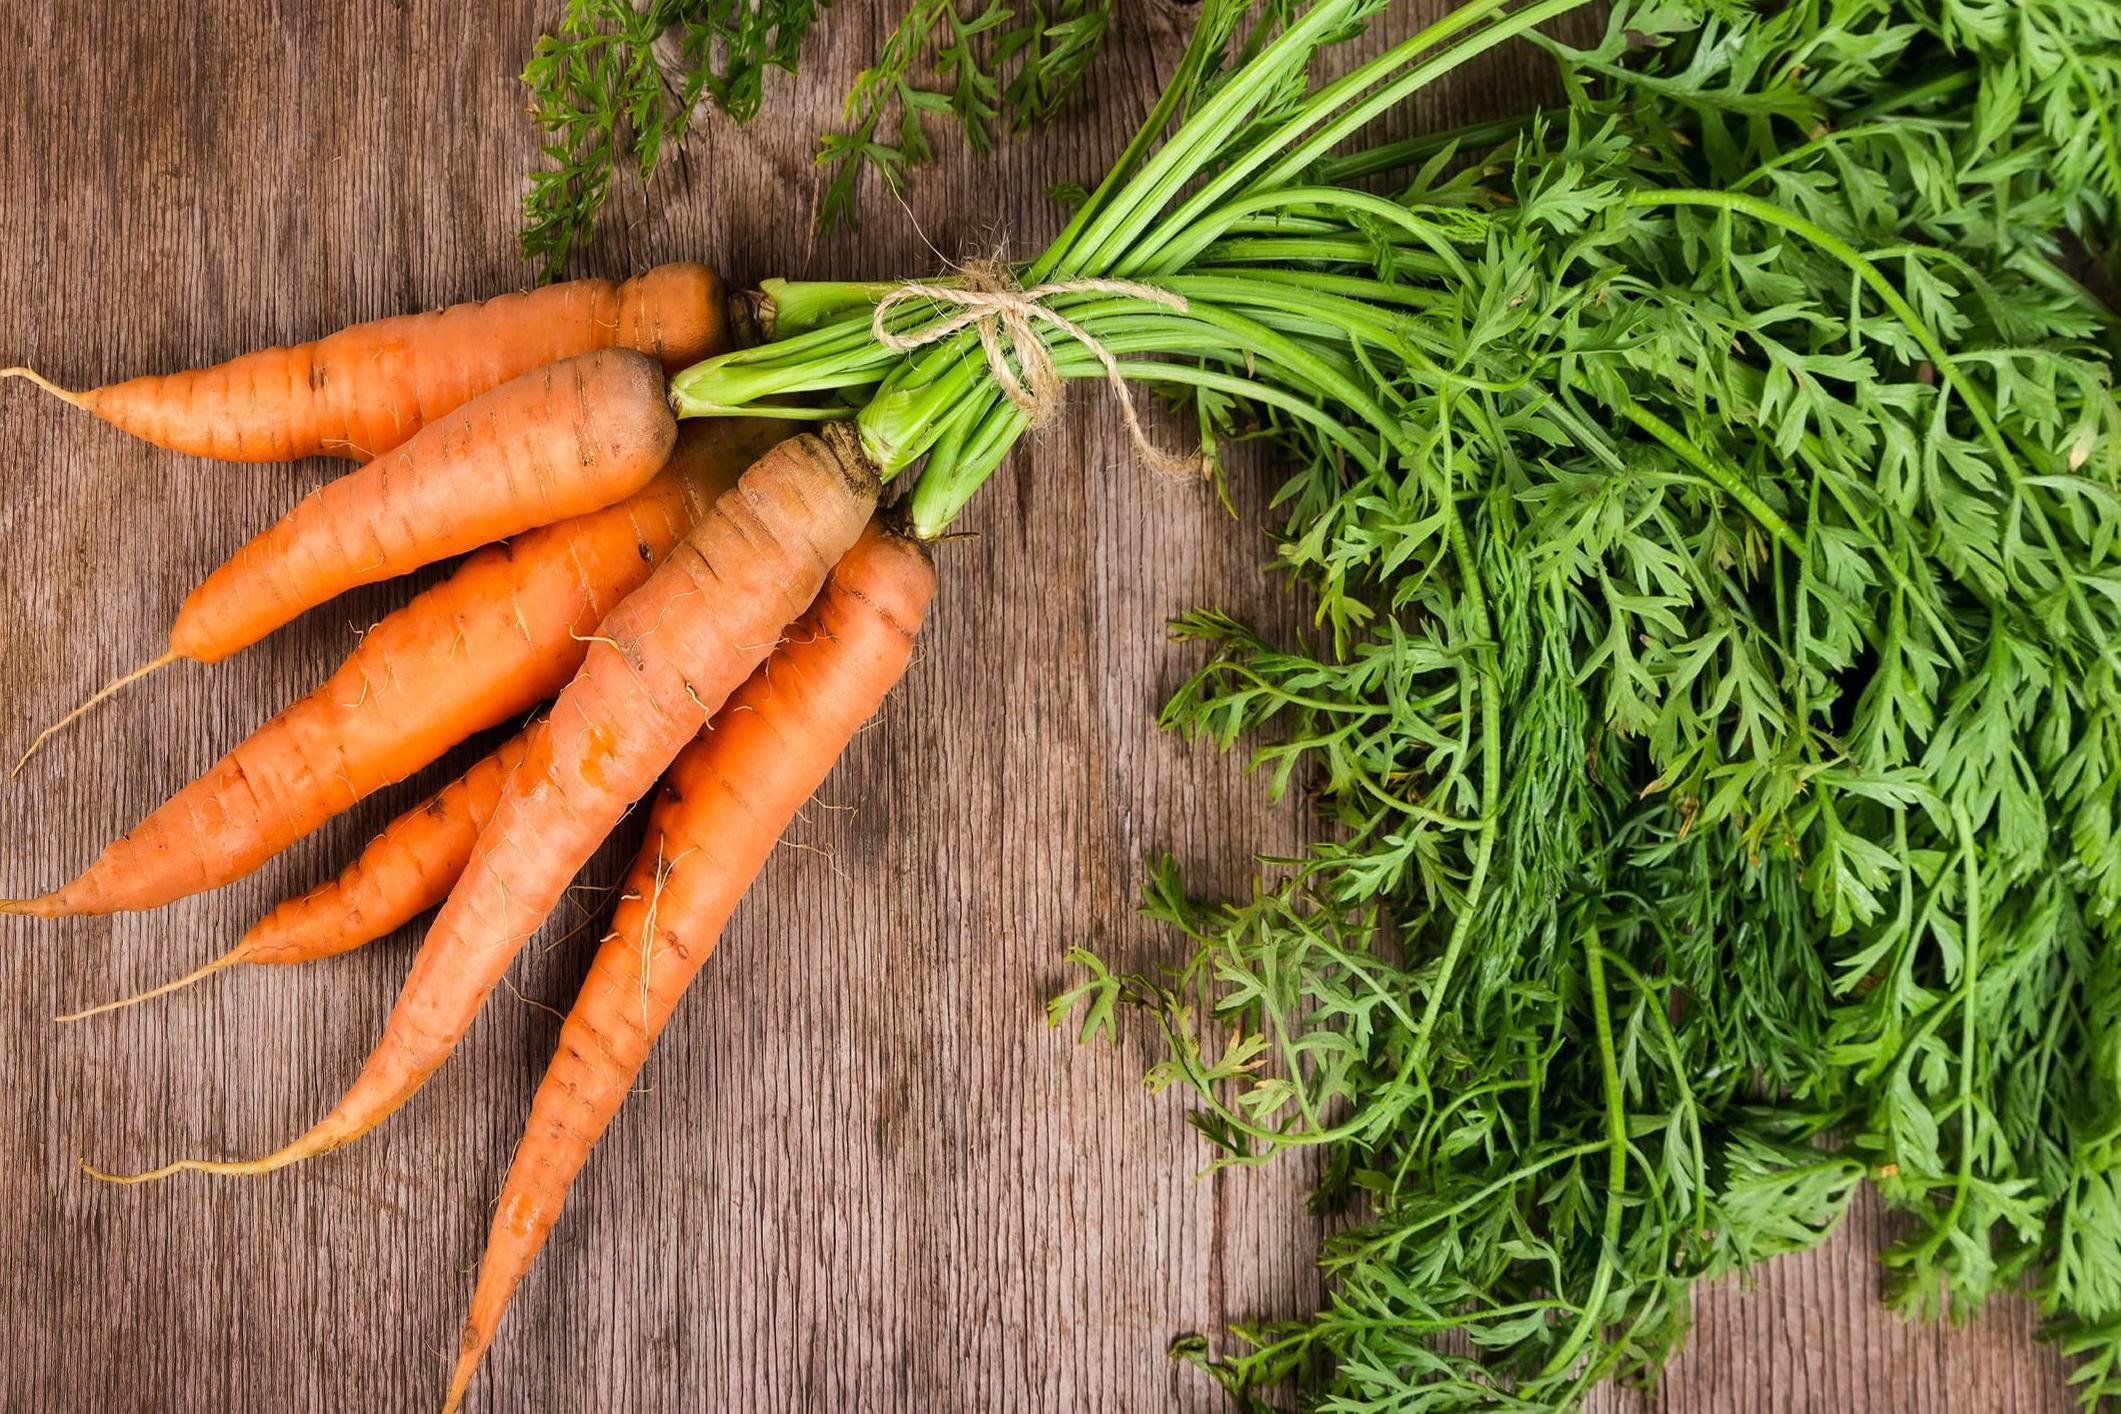carrot: (0, 270, 964, 1408), (183, 297, 900, 1414), (227, 426, 803, 769)
